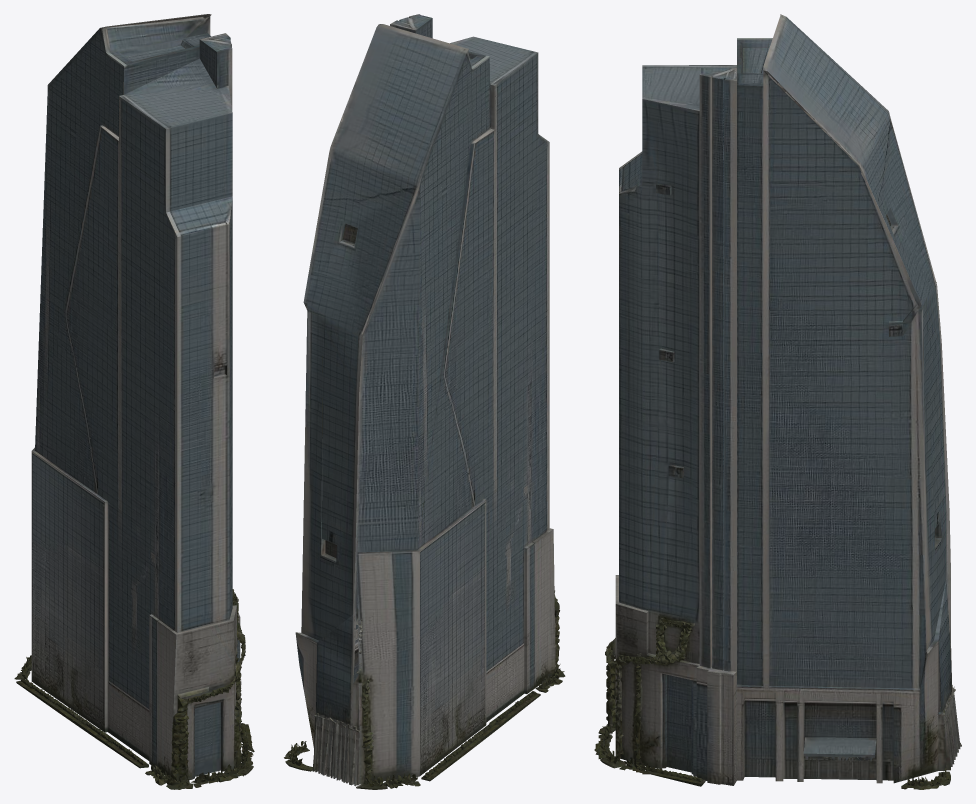
The model's file is yeouido-glass-office.glb.
3 views of the same model, side by side, from view 1: azimuth 30°, elevation 25°; view 2: azimuth 150°, elevation 25°; view 3: azimuth 270°, elevation 25° (orthographic). The views are drawn at different scales.
Parts seen in each view (by area): view 1: tripo_node_931bbf7f-7895-4809-b6fb-89a96441e034; view 2: tripo_node_931bbf7f-7895-4809-b6fb-89a96441e034; view 3: tripo_node_931bbf7f-7895-4809-b6fb-89a96441e034.
Boxes of the visible parts, <box> form: tripo_node_931bbf7f-7895-4809-b6fb-89a96441e034: <box>14,14,254,789</box>; tripo_node_931bbf7f-7895-4809-b6fb-89a96441e034: <box>284,14,565,789</box>; tripo_node_931bbf7f-7895-4809-b6fb-89a96441e034: <box>594,14,961,789</box>.
Bounding box in the file's own units: 0.209 × 0.998 × 0.4629.
Materials: 1 (1 with a texture image).
